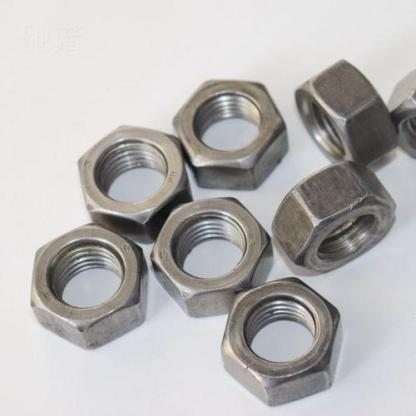FOD: (218, 276, 343, 410), (148, 194, 276, 318), (267, 160, 399, 278), (28, 223, 149, 351), (75, 122, 190, 243), (172, 76, 289, 194), (294, 59, 398, 168)
